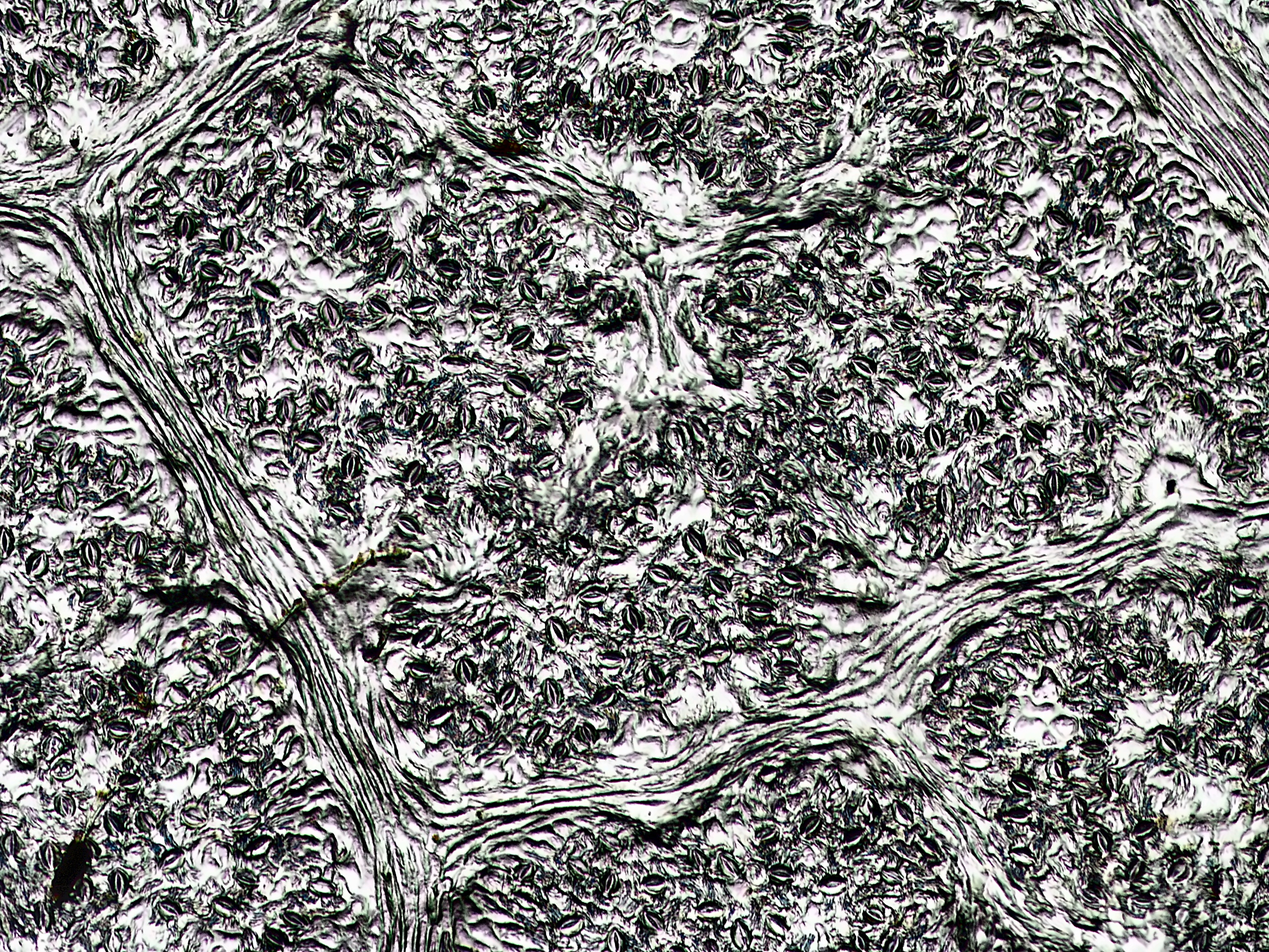stomata: (1076, 883, 1113, 912), (541, 614, 573, 647), (717, 534, 753, 563), (746, 106, 778, 138), (725, 918, 755, 952), (7, 401, 41, 431), (1044, 615, 1073, 650), (371, 32, 407, 60), (1101, 143, 1139, 169), (1022, 626, 1051, 660), (762, 914, 796, 943), (1003, 845, 1044, 869), (36, 838, 65, 871), (3, 7, 34, 37), (539, 343, 581, 365), (24, 60, 50, 95), (814, 872, 849, 898), (711, 850, 741, 880), (503, 324, 535, 352), (478, 618, 511, 645), (1041, 468, 1068, 501), (1005, 770, 1038, 797), (471, 78, 497, 112), (964, 692, 1004, 714), (1225, 572, 1260, 597), (680, 529, 710, 558), (1154, 727, 1184, 756), (1104, 656, 1133, 686), (453, 655, 481, 686), (610, 203, 638, 234), (726, 495, 762, 519), (687, 62, 711, 98), (339, 176, 376, 199), (967, 45, 1004, 68), (774, 565, 808, 590), (674, 111, 703, 140), (127, 37, 155, 67), (983, 663, 1018, 687), (120, 670, 150, 698), (1103, 369, 1135, 395), (1084, 704, 1117, 729), (1079, 205, 1103, 239), (933, 484, 957, 518), (3, 362, 37, 386), (354, 208, 391, 230), (229, 102, 257, 131), (1212, 343, 1241, 371), (889, 799, 918, 827), (665, 614, 695, 641), (384, 250, 410, 281), (338, 102, 364, 133), (739, 165, 774, 188), (789, 520, 821, 545), (70, 876, 95, 908), (1211, 869, 1235, 902), (233, 190, 261, 218), (1167, 341, 1195, 369), (1168, 669, 1196, 697), (251, 275, 280, 302), (366, 141, 395, 168), (1120, 856, 1149, 883), (706, 8, 745, 28), (909, 105, 939, 131), (782, 355, 812, 381), (703, 570, 734, 595), (501, 372, 532, 397), (1065, 793, 1090, 824), (555, 913, 586, 938), (207, 892, 238, 917), (575, 586, 610, 608), (216, 703, 238, 738), (961, 715, 993, 739), (988, 157, 1024, 178), (619, 605, 648, 631), (57, 366, 86, 392), (721, 61, 746, 91), (848, 18, 878, 43), (920, 372, 954, 394), (240, 834, 274, 856), (686, 414, 710, 445), (778, 293, 809, 317), (80, 678, 104, 709), (75, 587, 106, 611), (538, 676, 561, 708), (1240, 604, 1267, 631), (1043, 756, 1070, 783), (1128, 177, 1154, 205), (1136, 232, 1164, 258), (923, 423, 949, 451), (323, 500, 356, 522), (453, 401, 475, 434), (31, 900, 53, 933), (299, 204, 328, 229), (1043, 208, 1072, 233), (284, 161, 308, 191), (457, 220, 487, 244), (1032, 124, 1062, 148), (1019, 421, 1049, 445), (164, 681, 194, 705), (409, 626, 440, 649), (960, 116, 991, 139), (1120, 333, 1151, 356), (105, 867, 128, 898), (279, 910, 310, 933), (972, 464, 1004, 486), (847, 356, 879, 378), (230, 869, 262, 891), (80, 538, 102, 570), (630, 498, 656, 525), (517, 279, 544, 305), (1217, 743, 1243, 770), (23, 550, 50, 576), (401, 460, 426, 488), (346, 348, 374, 373), (1016, 89, 1044, 114), (157, 847, 185, 872), (50, 793, 78, 818), (779, 13, 812, 34), (394, 514, 424, 537), (317, 298, 340, 328), (559, 80, 582, 110), (634, 119, 664, 142), (614, 69, 637, 99), (765, 627, 796, 649), (556, 389, 587, 411), (875, 78, 906, 100), (643, 565, 677, 585), (275, 101, 301, 127), (792, 119, 818, 145), (940, 73, 966, 99), (660, 855, 686, 881), (664, 423, 689, 450), (418, 214, 445, 239), (248, 151, 275, 176), (496, 684, 520, 712), (99, 79, 127, 103), (865, 276, 893, 300), (1194, 301, 1222, 325), (1067, 665, 1095, 689), (124, 533, 148, 561), (745, 597, 774, 620), (596, 287, 619, 316), (1053, 96, 1082, 119), (998, 294, 1027, 317), (1128, 818, 1157, 841), (196, 260, 226, 282), (1005, 490, 1027, 520), (57, 481, 79, 511), (0, 523, 16, 564), (699, 644, 730, 665), (730, 414, 756, 439), (649, 458, 675, 483), (696, 156, 721, 182), (1201, 622, 1226, 648), (1166, 859, 1192, 884), (339, 451, 363, 478), (235, 344, 262, 368), (531, 238, 558, 262), (858, 792, 882, 819), (227, 815, 263, 833), (41, 732, 65, 759), (383, 600, 417, 619), (959, 751, 993, 770), (497, 417, 525, 440), (820, 440, 848, 463), (686, 845, 709, 873), (102, 811, 125, 839), (365, 233, 397, 253), (1192, 387, 1212, 419), (647, 143, 676, 165), (48, 758, 77, 780), (560, 282, 590, 303), (1218, 462, 1253, 480), (926, 729, 956, 750), (165, 542, 186, 572), (997, 806, 1034, 823), (438, 354, 471, 373), (484, 25, 517, 44), (218, 226, 242, 252), (588, 76, 612, 102), (1097, 769, 1121, 795), (188, 656, 214, 680), (593, 115, 616, 142), (643, 71, 666, 98), (1242, 762, 1269, 785), (928, 670, 955, 693), (466, 301, 497, 321), (508, 57, 539, 77), (825, 311, 856, 331), (515, 118, 543, 140), (1080, 418, 1102, 446), (0, 831, 22, 859), (258, 926, 286, 948), (934, 319, 970, 336), (304, 880, 338, 898), (111, 773, 147, 790), (423, 705, 452, 726), (431, 258, 460, 279), (149, 740, 170, 769), (419, 490, 449, 510), (333, 231, 358, 255), (202, 167, 222, 197), (1070, 157, 1094, 182), (888, 313, 918, 333), (918, 286, 942, 311), (1023, 335, 1047, 360), (948, 346, 978, 366), (642, 661, 665, 687), (284, 325, 307, 351), (172, 214, 195, 240), (808, 88, 831, 114), (1173, 222, 1196, 248), (763, 411, 789, 434), (1138, 643, 1161, 669), (767, 861, 793, 884), (1022, 56, 1057, 73), (616, 455, 643, 477), (444, 176, 471, 198), (437, 23, 470, 41), (765, 38, 792, 60), (1035, 258, 1062, 280), (919, 265, 950, 284), (293, 432, 321, 453), (812, 386, 840, 407), (154, 898, 182, 919), (275, 395, 295, 424), (960, 241, 989, 261), (1081, 474, 1110, 494), (606, 512, 630, 536), (404, 298, 436, 316), (477, 264, 509, 282), (1072, 349, 1096, 373), (1232, 424, 1264, 442), (64, 918, 88, 942), (566, 535, 592, 557), (309, 388, 331, 414), (155, 265, 181, 287), (323, 143, 349, 165), (908, 479, 930, 505), (816, 551, 846, 570), (831, 237, 861, 256), (1169, 268, 1199, 287), (1124, 405, 1154, 424), (577, 721, 598, 748), (1090, 828, 1111, 855), (822, 785, 849, 806), (638, 911, 665, 932), (692, 902, 725, 919), (137, 184, 165, 204), (866, 429, 886, 457), (599, 868, 619, 896), (104, 719, 132, 739), (352, 415, 383, 433), (524, 723, 548, 746), (396, 365, 420, 388), (1077, 738, 1106, 757), (216, 637, 245, 656), (395, 401, 417, 426), (901, 345, 926, 367), (926, 532, 948, 557), (896, 519, 918, 544), (133, 811, 158, 833), (712, 458, 738, 479), (1077, 316, 1103, 337), (1249, 286, 1266, 318), (246, 397, 266, 424), (958, 185, 985, 205), (1212, 706, 1239, 726), (362, 298, 390, 317), (943, 153, 971, 172), (840, 829, 868, 848), (640, 874, 668, 893), (48, 50, 71, 73), (1126, 893, 1159, 909), (405, 663, 436, 680), (700, 292, 721, 317), (1119, 296, 1144, 317), (461, 585, 490, 603), (109, 456, 127, 485), (32, 431, 58, 451), (588, 688, 615, 707), (753, 824, 780, 843), (830, 57, 852, 80), (1194, 575, 1217, 597), (799, 815, 821, 838), (13, 466, 36, 488), (965, 406, 983, 434), (921, 37, 946, 57), (802, 416, 827, 436), (771, 391, 796, 411), (594, 652, 625, 668), (70, 12, 89, 38), (796, 256, 822, 275), (61, 443, 80, 469), (517, 566, 546, 583), (214, 317, 235, 340), (738, 280, 759, 303), (486, 475, 516, 491), (1245, 362, 1269, 382), (1078, 615, 1097, 640), (465, 715, 491, 733), (222, 779, 248, 797), (530, 454, 559, 470), (191, 365, 212, 387), (216, 0, 239, 20), (849, 929, 869, 952), (957, 283, 984, 300), (996, 390, 1020, 409), (547, 743, 572, 761), (862, 905, 887, 923), (517, 208, 534, 234), (879, 868, 905, 885), (0, 804, 21, 825), (418, 413, 438, 435), (1245, 327, 1267, 347), (1172, 770, 1191, 793), (895, 434, 913, 458), (606, 927, 623, 952), (236, 745, 261, 762), (728, 324, 752, 341), (537, 18, 562, 34), (778, 66, 799, 85), (106, 929, 123, 952), (182, 809, 204, 825), (868, 536, 895, 549), (882, 936, 902, 952), (517, 863, 532, 883), (111, 530, 128, 547)
